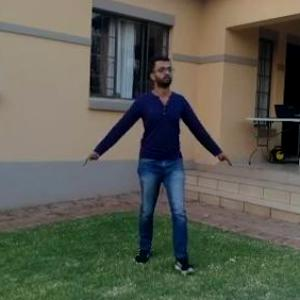land: (90, 62, 224, 260)
